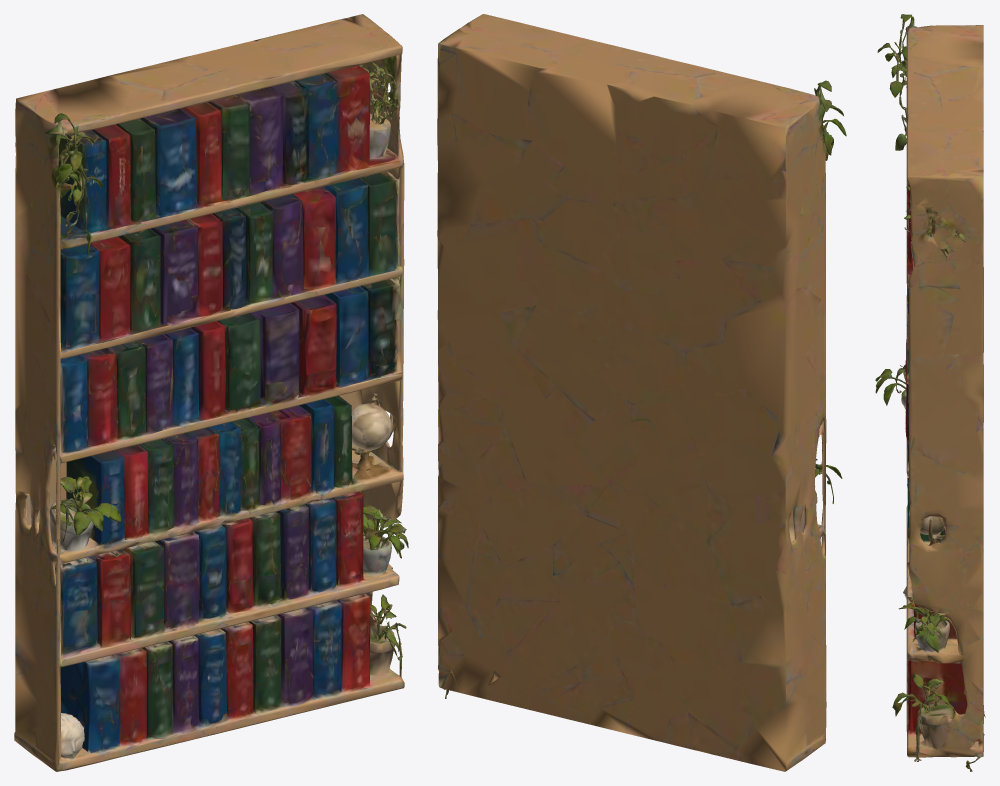
The model's file is bookshelf.glb.
3 views of the same model, side by side, from view 1: azimuth 30°, elevation 25°; view 2: azimuth 150°, elevation 25°; view 3: azimuth 270°, elevation 25° (orthographic). The views are drawn at different scales.
Bounding box in the file's own units: 1.08 × 1.87 × 0.3093.
1 material, 1 textured.
